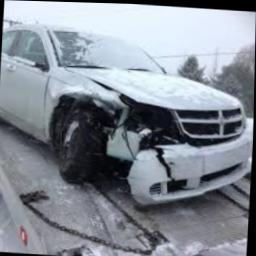Bumper: (106, 123, 253, 206)
Fender: (45, 68, 125, 139)
Light: (128, 100, 177, 130)
